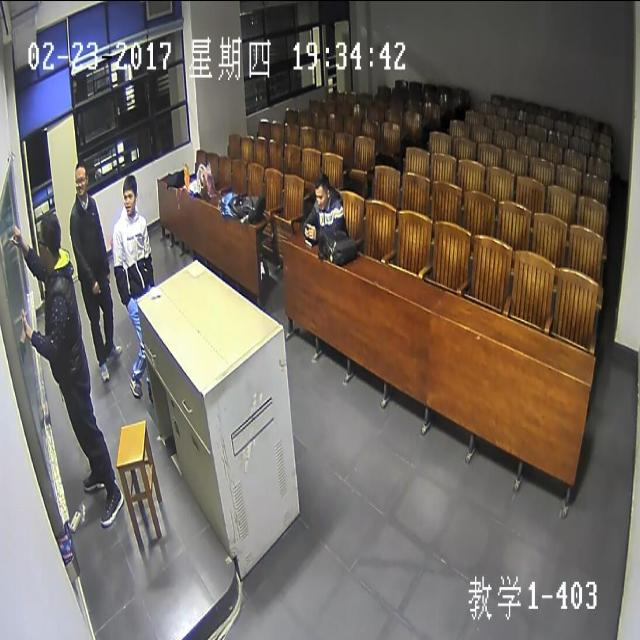person: (34, 209, 64, 265), (309, 170, 330, 212), (119, 170, 137, 215), (70, 158, 88, 195)
